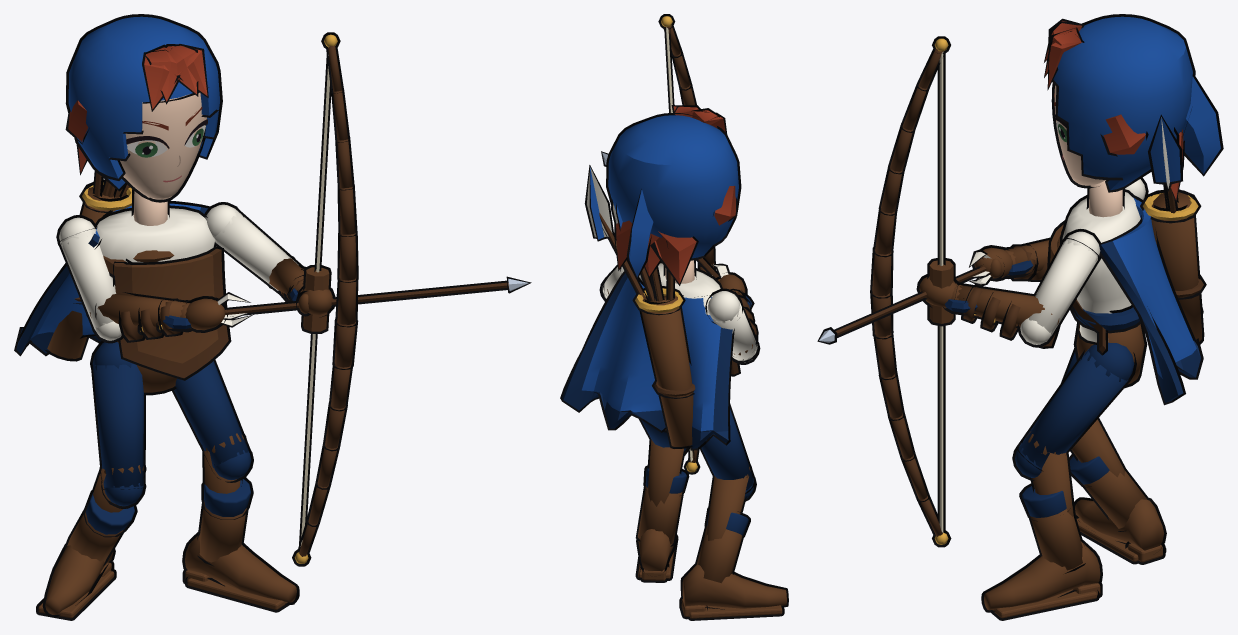
File: archer.glb
3 views of the same model, side by side, from view 1: azimuth 30°, elevation 25°; view 2: azimuth 150°, elevation 25°; view 3: azimuth 270°, elevation 25° (orthographic). The views are drawn at different scales.
Parts seen in each view (by area): view 1: head, torso, fore_l, shin_l, thigh_r, fore_l_ink, shin_r, fore_r, thigh_l, arm_r, head_ink, arm_l (+6 smaller); view 2: head, cape, torso, shin_r, shin_l, torso_ink, head_ink, arm_r, thigh_r, fore_l, cape_ink, shin_r_ink (+7 smaller); view 3: head, fore_l, torso, shin_l, cape, shin_r, fore_l_ink, thigh_l, arm_l, fore_r, head_ink, torso_ink (+7 smaller).
Boxes of the visible parts, x1,y1,x2,y2 form: head: [68, 16, 219, 225]; torso: [47, 172, 228, 378]; fore_l: [269, 34, 356, 563]; shin_l: [185, 433, 296, 609]; thigh_r: [92, 342, 143, 506]; fore_l_ink: [264, 32, 358, 566]; shin_r: [38, 465, 143, 618]; fore_r: [89, 278, 528, 340]; thigh_l: [174, 361, 251, 479]; arm_r: [59, 217, 121, 340]; head_ink: [65, 14, 222, 217]; arm_l: [205, 204, 298, 290]; head: [608, 106, 738, 283]; cape: [562, 273, 732, 448]; torso: [587, 167, 738, 446]; shin_r: [681, 467, 786, 618]; shin_l: [637, 439, 686, 580]; torso_ink: [584, 165, 740, 448]; head_ink: [606, 105, 741, 285]; arm_r: [707, 291, 757, 362]; thigh_r: [701, 409, 753, 499]; fore_l: [607, 16, 714, 472]; cape_ink: [560, 271, 735, 450]; shin_r_ink: [679, 466, 788, 620]; head: [1045, 16, 1220, 217]; fore_l: [872, 38, 1059, 544]; torso: [1042, 117, 1203, 352]; shin_l: [984, 431, 1100, 618]; cape: [1099, 197, 1200, 402]; shin_r: [1069, 419, 1164, 562]; fore_l_ink: [870, 36, 1064, 547]; thigh_l: [1015, 342, 1134, 477]; arm_l: [1020, 231, 1100, 344]; fore_r: [819, 240, 1049, 342]; head_ink: [1044, 14, 1223, 209]; torso_ink: [1038, 114, 1206, 355].
Bounding box in the file's own units: 0.8132 × 1.29 × 0.8111.
